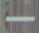No entry: (2, 2, 35, 32)
